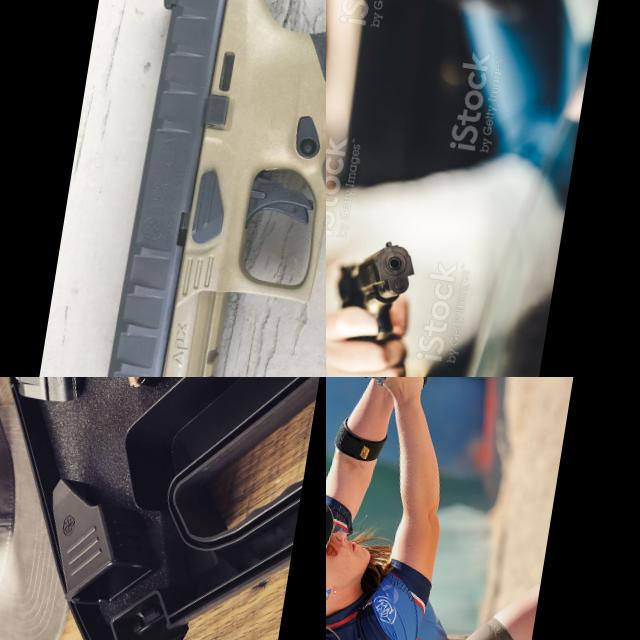handgun: (85, 0, 326, 377), (0, 377, 257, 568), (326, 231, 421, 348), (361, 377, 416, 434)
